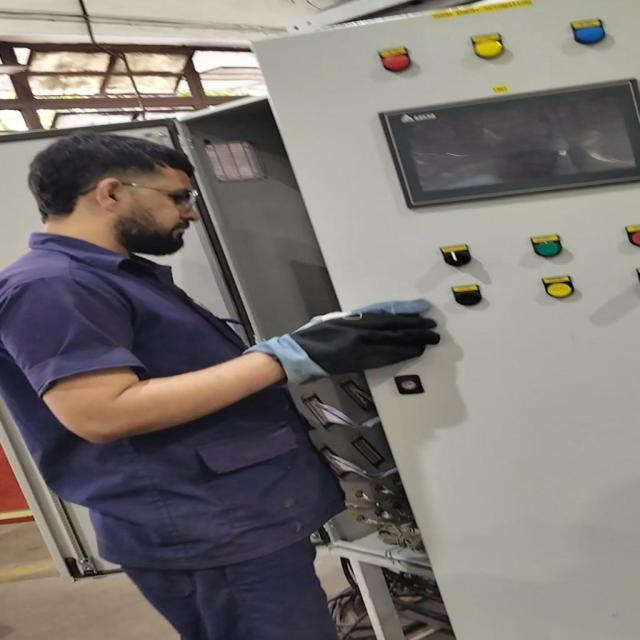Gloves-Detection: (242, 298, 435, 391)
